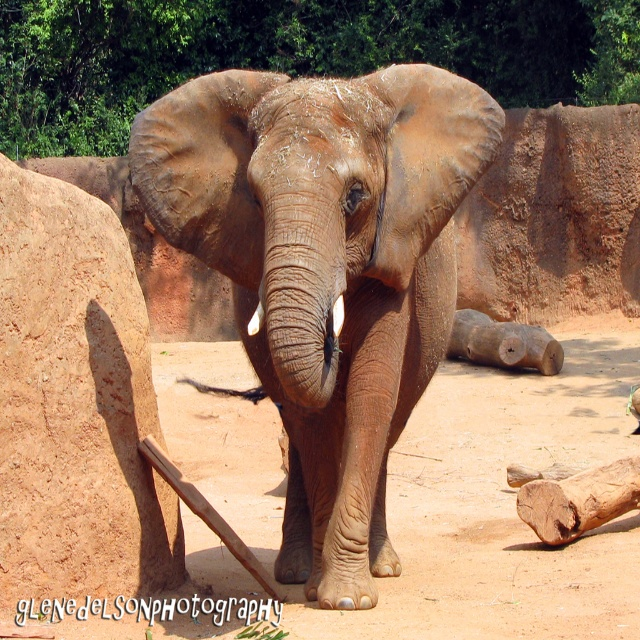Elephant: (127, 65, 508, 611)
